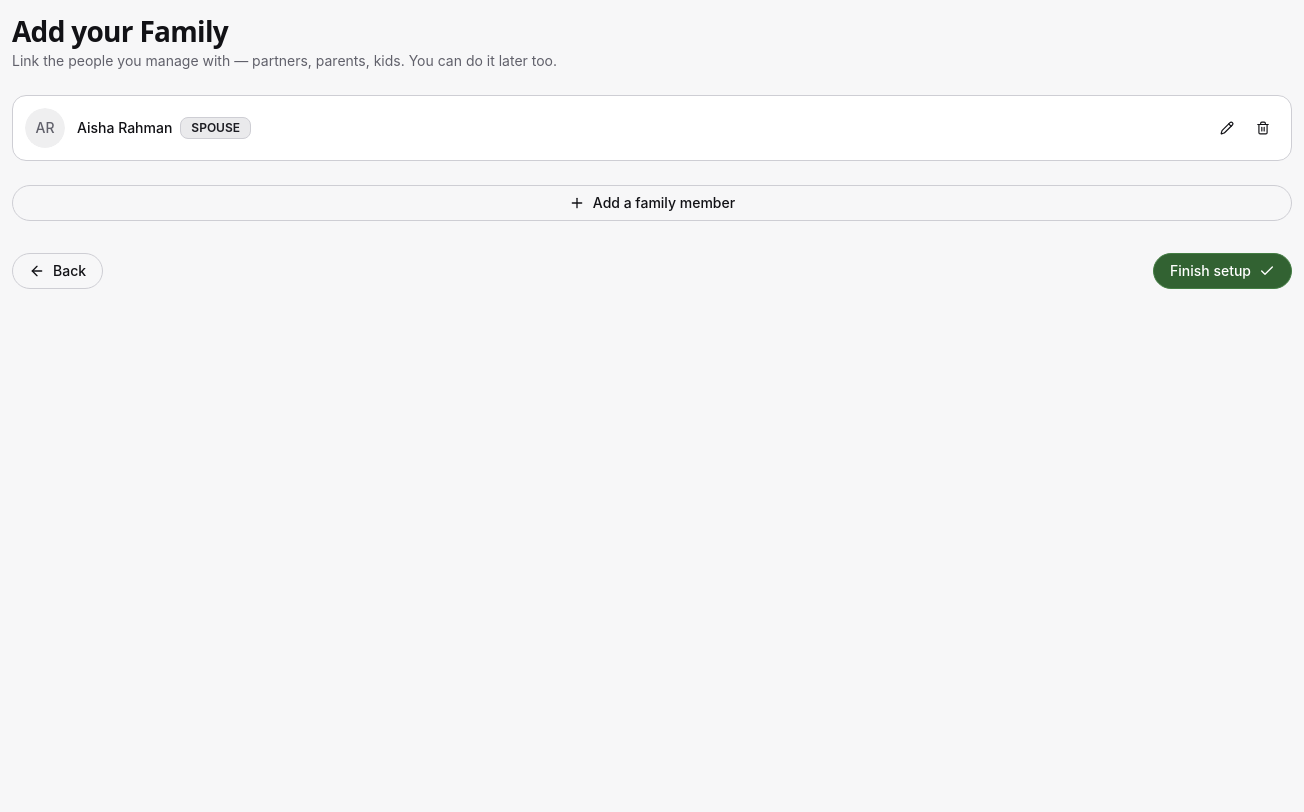
Test: OnboardStepFamily — seeded list › edits a member in place
Click the button named "Edit Aisha Rahman" at (1227, 128), box [1211,112,1243,144]
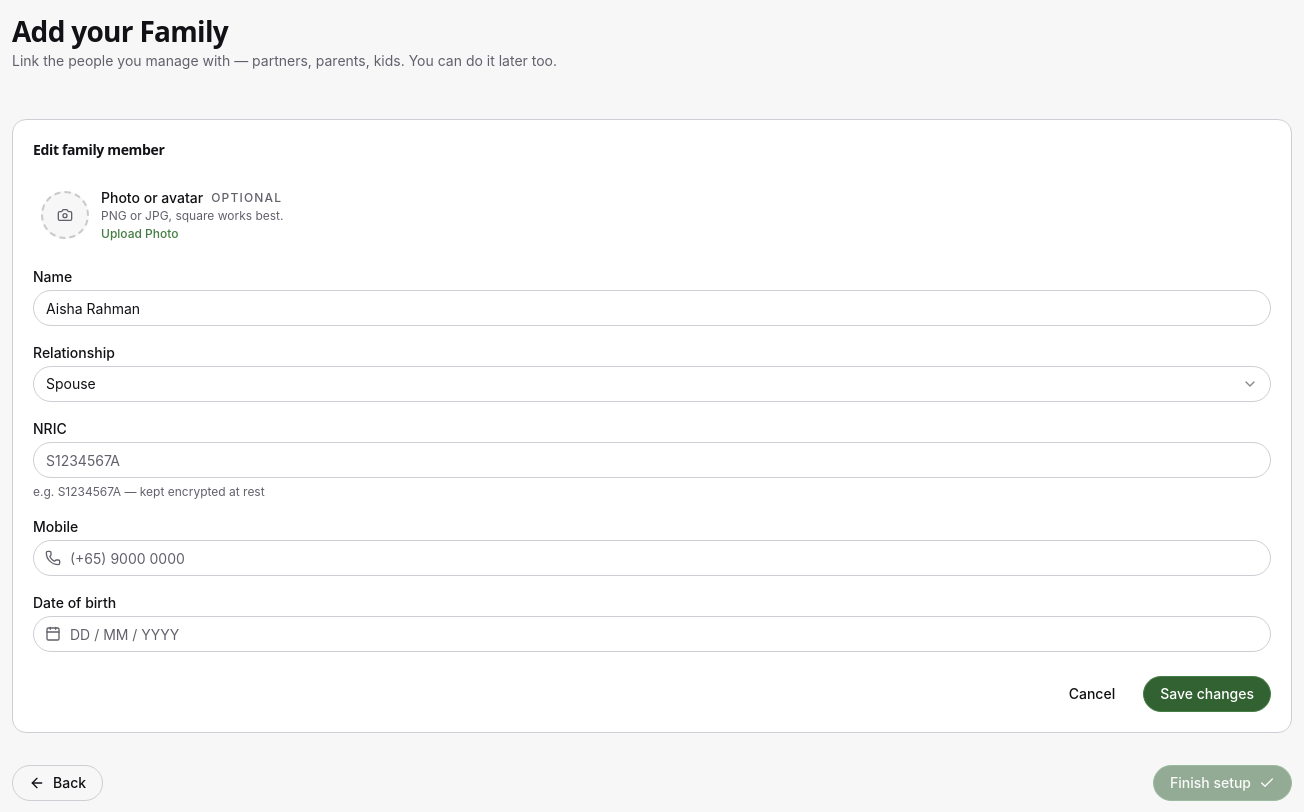
Expected: the heading "Edit family member" is shown, [33,140,164,159]
Replace the text in the field labelled "Name" with "Aisha Khan" at (652, 308), box [33,290,1271,326]
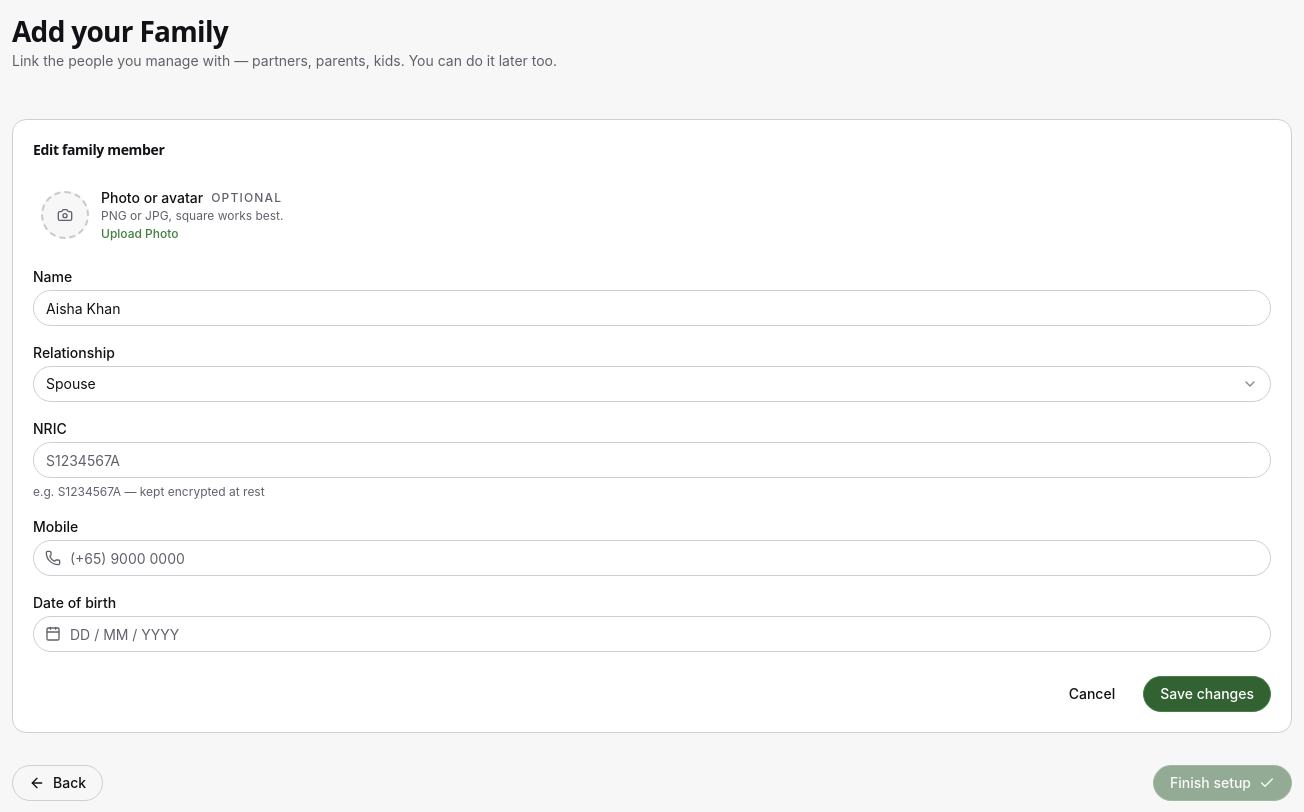
Click the button "Save changes" at (1207, 694), box [1143,676,1271,712]
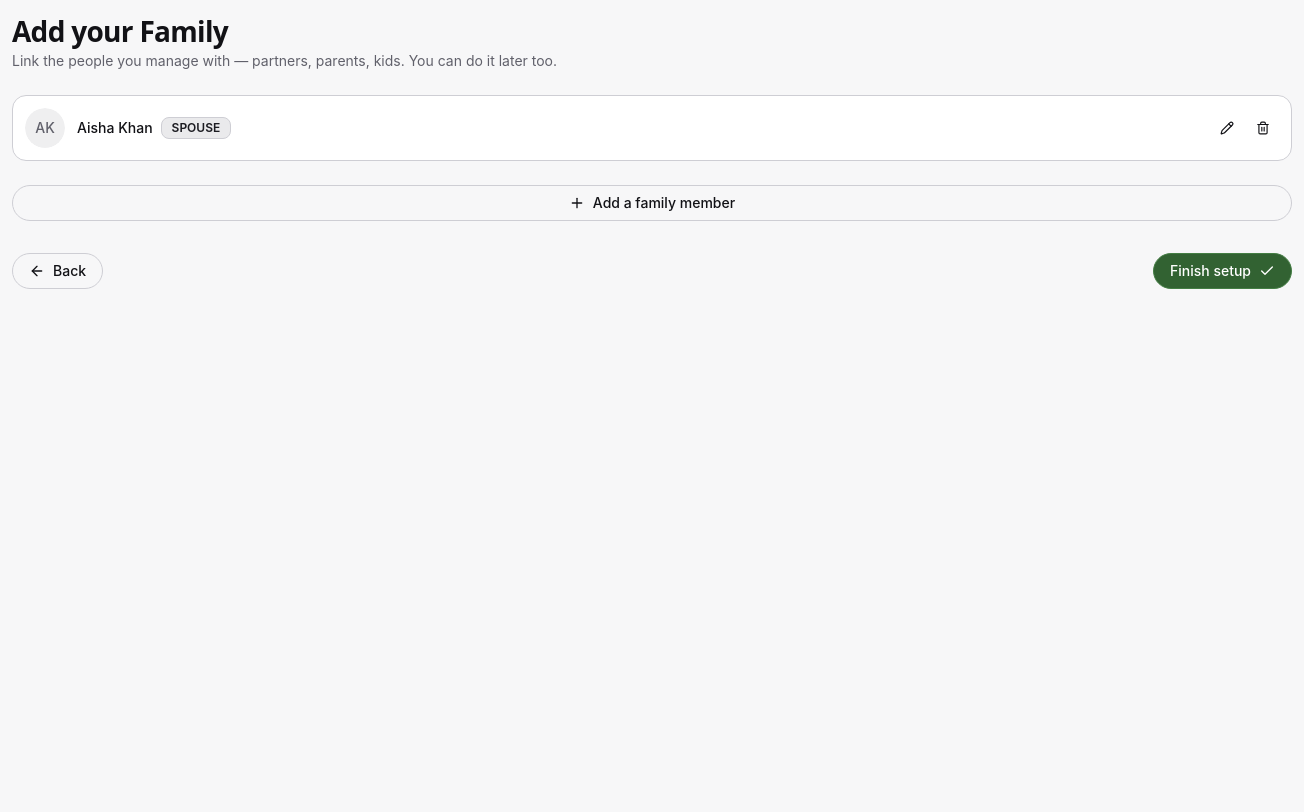
Expected: the text "Aisha Rahman" is not shown
Expected: the text "Aisha Khan" is shown, [77,118,153,138]
